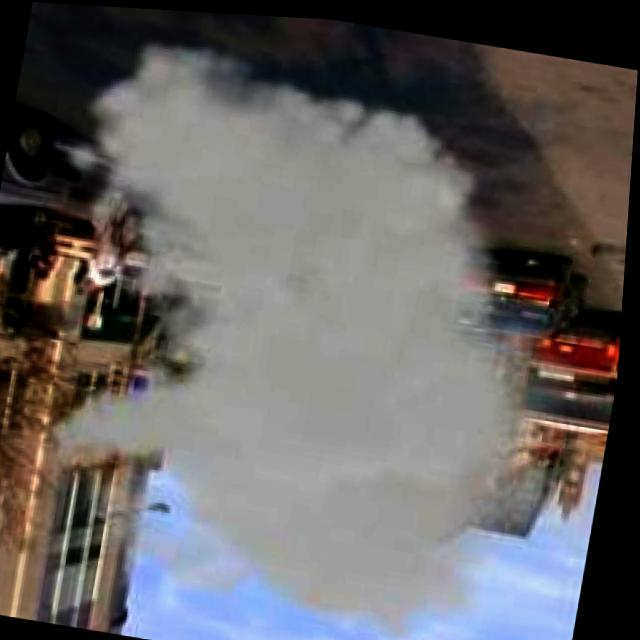no_helmet: (0, 17, 639, 640)
